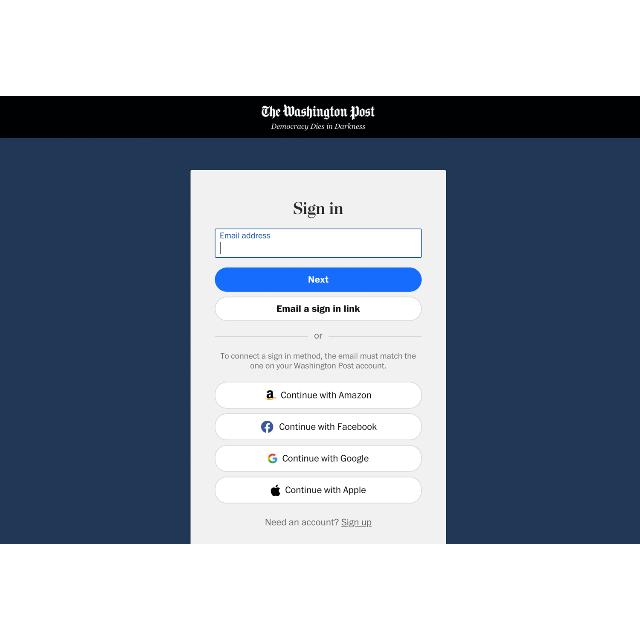QLabel: (220, 352, 416, 360), (250, 362, 386, 370), (262, 517, 340, 529), (282, 454, 368, 464), (276, 304, 360, 314), (293, 202, 345, 218), (285, 485, 367, 495), (279, 423, 377, 431), (280, 391, 372, 399), (342, 518, 372, 528), (308, 275, 329, 283), (314, 334, 322, 338)
VBtn: (214, 476, 422, 504), (215, 381, 422, 409), (215, 413, 422, 441), (215, 444, 421, 472), (214, 296, 422, 322), (215, 267, 422, 293)
VCard: (187, 166, 449, 544)
VDivider: (214, 335, 308, 337), (328, 335, 422, 337)
VIcon: (261, 421, 273, 434), (271, 484, 281, 496), (266, 390, 276, 400), (268, 453, 278, 463)
VImg: (255, 101, 385, 135)
VTextField: (213, 227, 423, 259)
